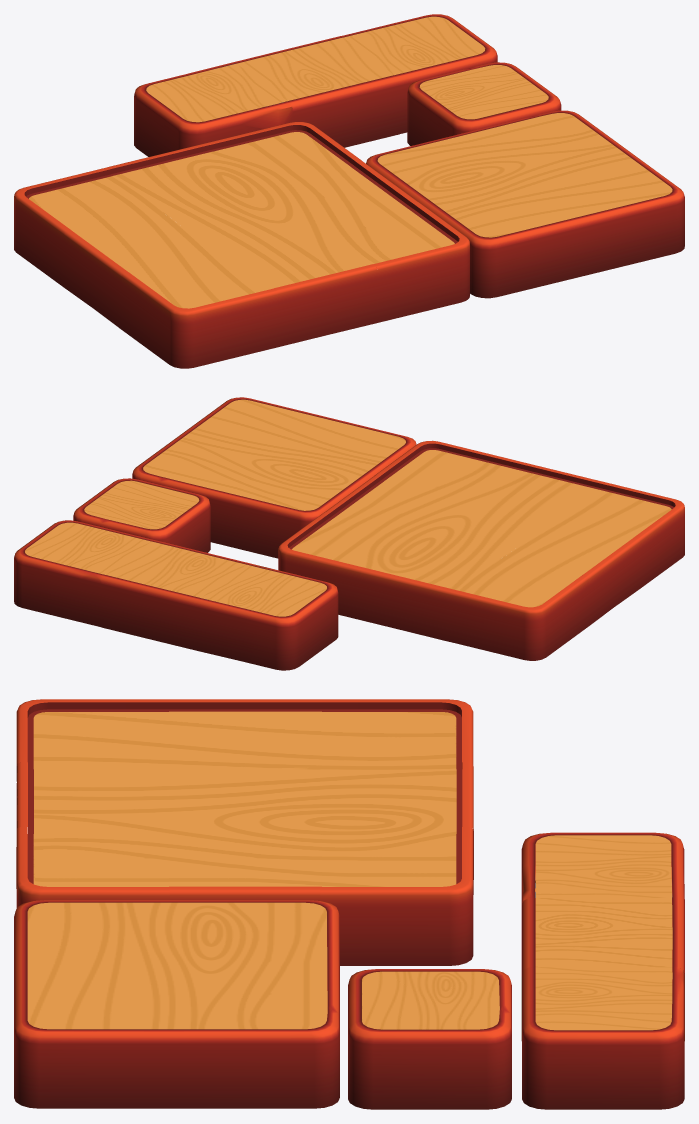
Rendered from Moveable_Blocks.fbx.
The picture shows the model from 3 angles, top to bottom: view 1: azimuth 30°, elevation 25°; view 2: azimuth 150°, elevation 25°; view 3: azimuth 270°, elevation 25°; orthographic projection. The views are drawn at different scales.
Visible parts, largest first — view 1: WoodenBigBox, WoodenBigBox_Corner3, WoodenLong_Mid, WoodenBigBox_Side2, WoodenBigBox_Corner7, WoodenLong_Left, WoodenBigBox_Side, WoodenBigBox_Corner, WoodenSmallBox, WoodenLong_Right, WoodenBigBox_Corner5, WoodenBigBox_Side3 (+2 smaller); view 2: WoodenBigBox, WoodenLong_Left, WoodenBigBox_Corner, WoodenLong_Mid, WoodenLong_Right, WoodenBigBox_Side3, WoodenBigBox_Side, WoodenBigBox_Corner3, WoodenSmallBox, WoodenBigBox_Corner5, WoodenBigBox_Corner7, WoodenBigBox_Side2 (+2 smaller); view 3: WoodenBigBox, WoodenLong_Right, WoodenSmallBox, WoodenBigBox_Corner5, WoodenLong_Mid, WoodenBigBox_Corner3, WoodenBigBox_Corner, WoodenBigBox_Side, WoodenLong_Left, WoodenBigBox_Corner7, WoodenBigBox_Side1, WoodenBigBox_Side3 (+2 smaller).
Part boxes in pixels (x1,y1,x2,y2): WoodenBigBox: (366, 110, 684, 298); WoodenBigBox_Corner3: (121, 255, 277, 368); WoodenLong_Mid: (235, 36, 399, 147); WoodenBigBox_Side2: (221, 230, 377, 347); WoodenBigBox_Corner7: (320, 202, 469, 322); WoodenLong_Left: (134, 62, 293, 156); WoodenBigBox_Side: (64, 213, 220, 329); WoodenBigBox_Corner: (14, 167, 162, 287); WoodenSmallBox: (407, 62, 561, 145); WoodenLong_Right: (341, 14, 497, 134); WoodenBigBox_Corner5: (208, 122, 361, 188); WoodenBigBox_Side3: (108, 143, 262, 212); WoodenBigBox: (132, 397, 416, 558); WoodenLong_Left: (196, 563, 338, 670); WoodenBigBox_Corner: (449, 559, 589, 660); WoodenLong_Mid: (101, 540, 248, 650); WoodenLong_Right: (14, 520, 152, 627); WoodenBigBox_Side3: (361, 538, 500, 641); WoodenBigBox_Side: (500, 522, 639, 625); WoodenBigBox_Corner3: (552, 481, 684, 588); WoodenSmallBox: (73, 478, 210, 552); WoodenBigBox_Corner5: (278, 512, 410, 619); WoodenBigBox_Corner7: (375, 440, 511, 500); WoodenBigBox_Side2: (463, 459, 600, 522); WoodenBigBox: (14, 900, 339, 1108); WoodenLong_Right: (522, 967, 684, 1109); WoodenSmallBox: (348, 969, 511, 1109); WoodenBigBox_Corner5: (320, 827, 473, 965); WoodenLong_Mid: (521, 898, 684, 1040); WoodenBigBox_Corner3: (16, 699, 169, 781); WoodenBigBox_Corner: (320, 699, 473, 769); WoodenBigBox_Side: (169, 699, 321, 768); WoodenLong_Left: (521, 832, 684, 971); WoodenBigBox_Corner7: (16, 827, 169, 907); WoodenBigBox_Side1: (169, 833, 321, 900); WoodenBigBox_Side3: (320, 762, 473, 894).
Bounding box in the file's own units: 541 × 58.41 × 457.
1 material, 1 textured.
